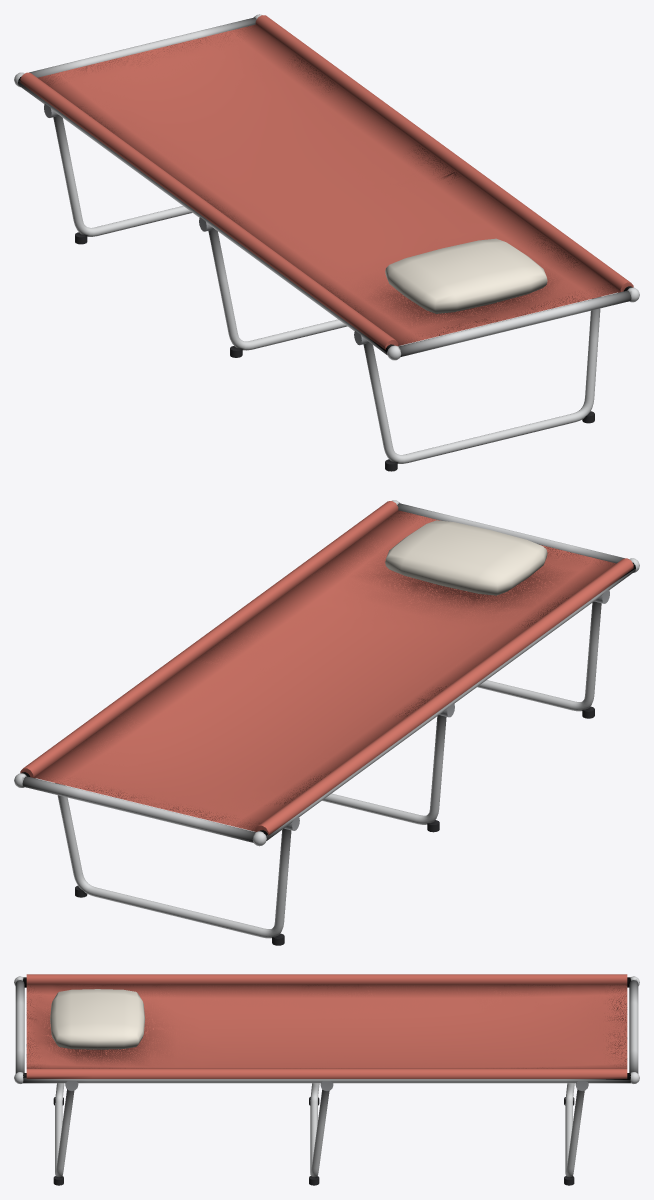
The model's file is nd_cot.glb.
The picture shows the model from 3 angles, top to bottom: view 1: azimuth 30°, elevation 25°; view 2: azimuth 150°, elevation 25°; view 3: azimuth 270°, elevation 25°; orthographic projection. The views are drawn at different scales.
Visible parts, largest first — view 1: PART; view 2: PART; view 3: PART.
Part boxes in pixels (x1,y1,x2,y2): PART: (14,14,639,471); PART: (14,500,639,945); PART: (14,974,639,1185).
Bounding box in the file's own units: 0.738 × 0.4672 × 1.94.
